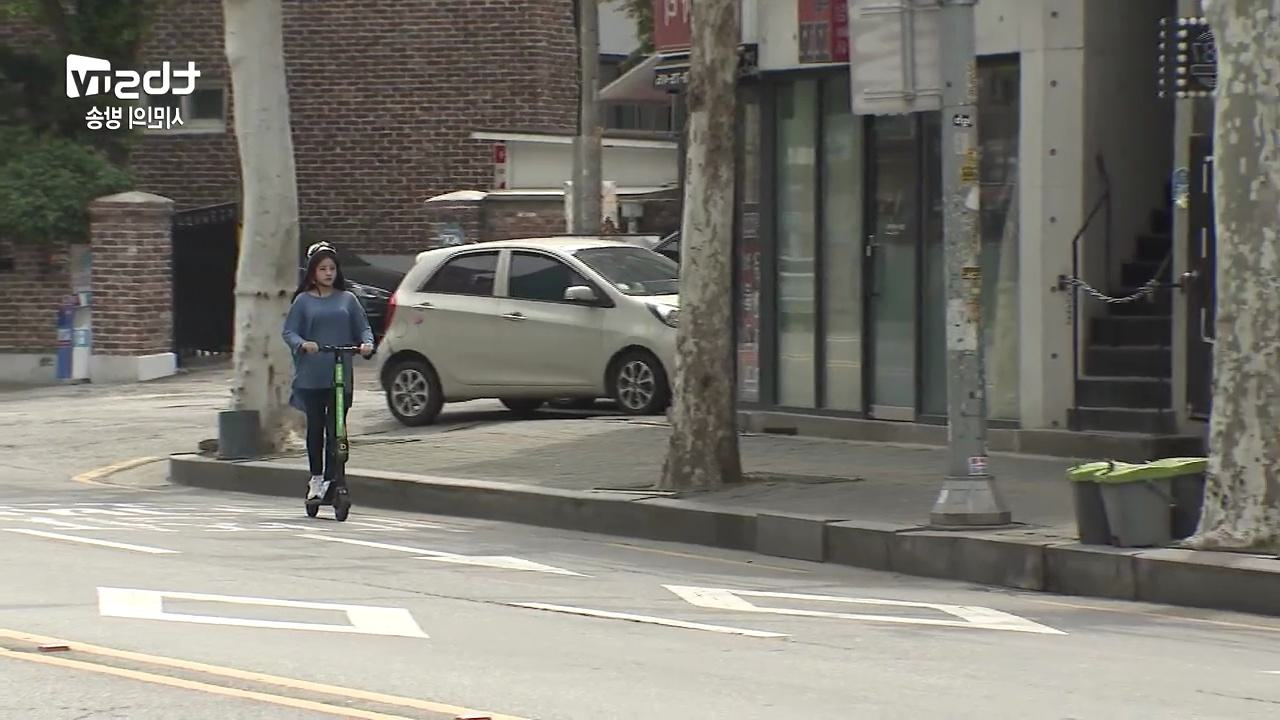helmet: (279, 239, 377, 523)
